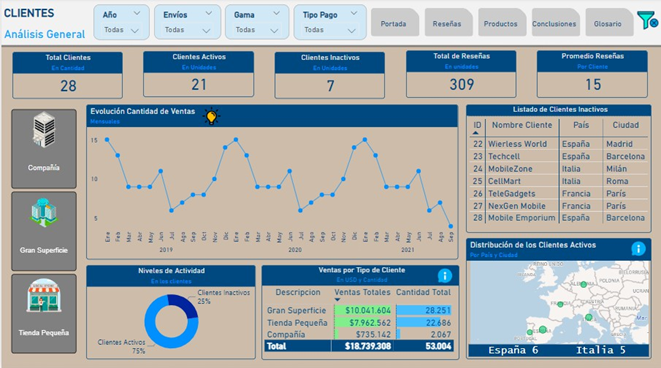

Layout of this report page (visuals, bound fields, positions):
{"tool":"powerbi","page":{"name":"Clientes","canvas":[1280,720],"ordinal":3},"visuals":[{"type":"card","title":"Total Clientes","fields":{"Values":["DAX Medidas.Total Clientes"]},"box":[21.3,103.6,214,90.7],"z":0},{"type":"card","title":"Clientes Activos","fields":{"Values":["DAX Medidas.Clientes Activos"]},"box":[275.2,102.4,215.4,89.3],"z":1000},{"type":"card","title":"Total de Reseñas","fields":{"Values":["DAX Medidas.Total Review"]},"box":[784.9,101.3,214,92.1],"z":2000},{"type":"card","title":"Promedio Reseñas","fields":{"Values":["DAX Medidas.Reseñas Promedio"]},"box":[1038.9,100.6,215.4,92.1],"z":3000},{"type":"slicer","fields":{"Values":["Calendario.Año"]},"box":[178.6,11.3,109.1,69.4],"z":4000},{"type":"lineClusteredColumnComboChart","title":"Evolución Cantidad de Ventas","fields":{"Category":["Calendario.Año","Calendario.Mes Nombre"],"Y2":["DAX Medidas.Total Facturas"]},"box":[163.7,205.4,721.9,300.7],"z":5000},{"type":"donutChart","title":"Niveles de Actividad","fields":{"Y":["DAX Medidas.Clientes Activos","DAX Medidas.Clientes Inactivos"]},"box":[164.4,517.3,328.8,182.8],"z":6000},{"type":"pageNavigator","box":[717.2,18.4,511.7,55.3],"z":7000},{"type":"slicer","fields":{"Values":["Empresas Envio.Empresa"]},"box":[295.7,11.3,130.4,68],"z":8000},{"type":"map","title":"Distribución de los Clientes Activos","fields":{"Category":["Pais.País","Ciudad.Ciudad"],"Size":["DAX Medidas.Clientes Activos"]},"box":[901.5,464.7,360.3,235.3],"z":9000},{"type":"image","box":[1228.8,17,51,51],"z":10000},{"type":"card","title":"Clientes Inactivos","fields":{"Values":["DAX Medidas.Clientes Inactivos"]},"box":[530.6,103,214.3,91],"z":11000},{"type":"image","box":[384,205.4,46.1,44.7],"z":12000},{"type":"slicer","fields":{"Values":["Tipo de Pago.Tipo de Pago"]},"box":[566.9,11.3,141.7,69.4],"z":13000},{"type":"ScrollingTextVisual1448795304508","fields":{"Measure Absolute":["DAX Medidas.Clientes Activos"],"Category":["Pais.País"]},"box":[901.4,666.1,360,34],"z":14000},{"type":"pivotTable","title":"Ventas por Tipo de Cliente","fields":{"Values":["DAX Medidas.Venta Total Desglosada por Gama","DAX Medidas.Cantidad Total Vendida"],"Rows":["Tipos cliente.Descripcion"]},"box":[504.6,517.3,384.1,184.3],"z":15000},{"type":"textbox","box":[0,9.9,180,90.7],"z":16000},{"type":"ChicletSlicer1448559807354","fields":{"Category":["Tipos cliente.Descripcion"],"Image":["Tipos cliente.Representacion Grafica"]},"box":[11.7,207,142.4,494.7],"z":17000},{"type":"tableEx","title":"Listado de Clientes Inactivos","fields":{"Values":["Clientes.ID Cliente","Clientes.Nombre Cliente","Pais.País","Ciudad.Ciudad"]},"box":[901.5,205.9,360.3,248.5],"z":18000},{"type":"slicer","fields":{"Values":["CategoriaArticulo.Categoria Articulo"]},"box":[434.2,11.3,124.7,68],"z":19000},{"type":"image","box":[836.2,517.3,49.6,41.1],"z":20000},{"type":"image","box":[1211.8,464.9,49.6,41.1],"z":21000}]}

Visuals, with their boxes in screenshot pixels (x1, y1, x2, y2), scaled from the page's 1280x720 canvas onto the 661x368 screenshot:
"Total Clientes" card: <bbox>11, 53, 122, 99</bbox>
"Clientes Activos" card: <bbox>142, 52, 253, 98</bbox>
"Total de Reseñas" card: <bbox>405, 52, 516, 99</bbox>
"Promedio Reseñas" card: <bbox>536, 51, 648, 98</bbox>
slicer - Calendario.Año: <bbox>92, 6, 149, 41</bbox>
"Evolución Cantidad de Ventas" lineClusteredColumnComboChart: <bbox>85, 105, 457, 259</bbox>
"Niveles de Actividad" donutChart: <bbox>85, 264, 255, 358</bbox>
pageNavigator: <bbox>370, 9, 635, 38</bbox>
slicer - Empresas Envio.Empresa: <bbox>153, 6, 220, 41</bbox>
"Distribución de los Clientes Activos" map: <bbox>466, 238, 652, 358</bbox>
image: <bbox>635, 9, 660, 35</bbox>
"Clientes Inactivos" card: <bbox>274, 53, 385, 99</bbox>
image: <bbox>198, 105, 222, 128</bbox>
slicer - Tipo de Pago.Tipo de Pago: <bbox>293, 6, 366, 41</bbox>
ScrollingTextVisual1448795304508 - DAX Medidas.Clientes Activos x Pais.País: <bbox>465, 340, 651, 358</bbox>
"Ventas por Tipo de Cliente" pivotTable: <bbox>261, 264, 459, 359</bbox>
textbox: <bbox>0, 5, 93, 51</bbox>
ChicletSlicer1448559807354 - Tipos cliente.Descripcion x Tipos cliente.Representacion Grafica: <bbox>6, 106, 80, 359</bbox>
"Listado de Clientes Inactivos" tableEx: <bbox>466, 105, 652, 232</bbox>
slicer - CategoriaArticulo.Categoria Articulo: <bbox>224, 6, 289, 41</bbox>
image: <bbox>432, 264, 457, 285</bbox>
image: <bbox>626, 238, 651, 259</bbox>
